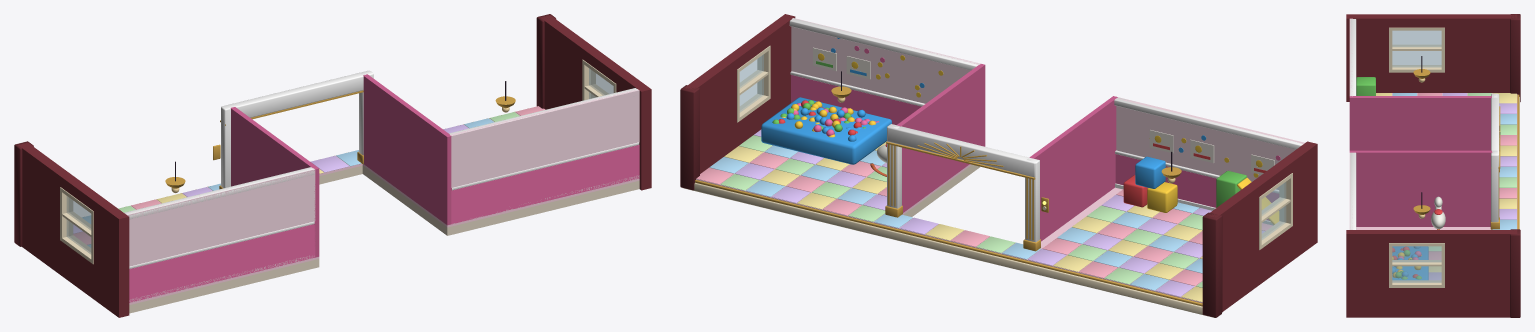
The model's file is Floor_Daycare.fbx.
3 views of the same model, side by side, from view 1: azimuth 30°, elevation 25°; view 2: azimuth 150°, elevation 25°; view 3: azimuth 270°, elevation 25° (orthographic). The views are drawn at different scales.
Parts seen in each view (by area): view 1: Shell; view 2: Shell; view 3: Shell.
Part boxes in pixels (x1=…): Shell: x1=14, y1=14, x2=651, y2=317; Shell: x1=680, y1=14, x2=1317, y2=317; Shell: x1=1346, y1=14, x2=1520, y2=317.
Bounding box in the file's own units: 15.92 × 2.82 × 5.3.
